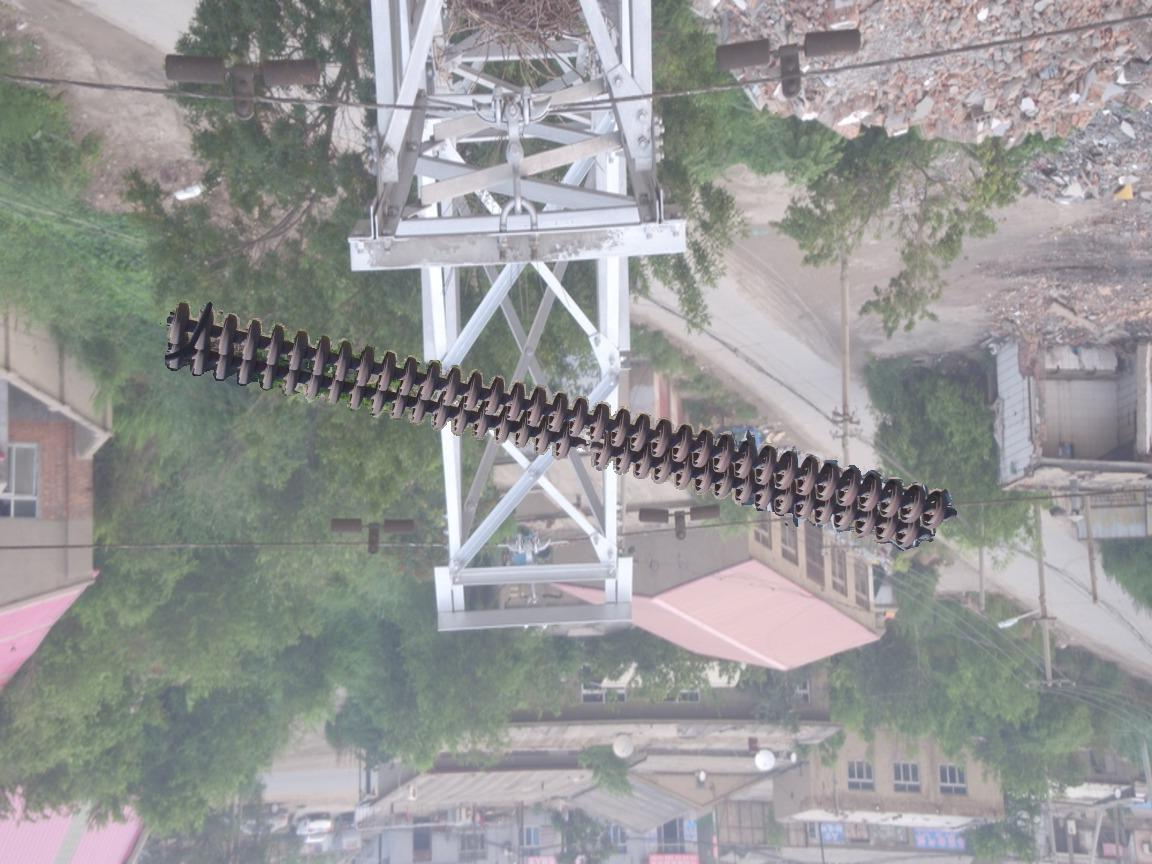insulator: (159, 299, 960, 549)
insulator_stringdrop: (549, 428, 615, 475)
